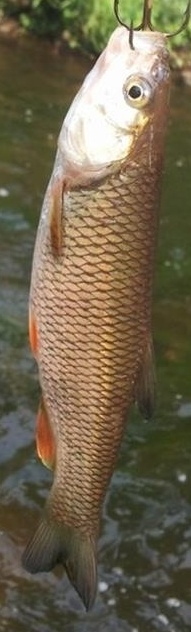Leuciscus cephalus: (20, 20, 171, 612)
